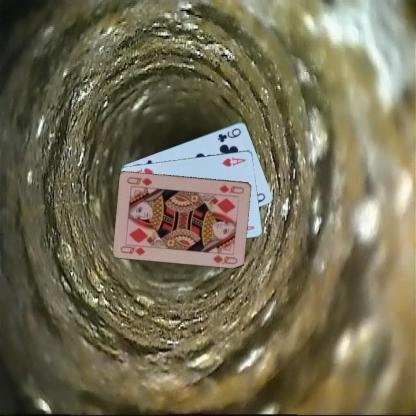9c: (215, 126, 242, 144)
Ah: (219, 154, 247, 168)
Qd: (118, 240, 148, 257), (216, 182, 246, 195)
